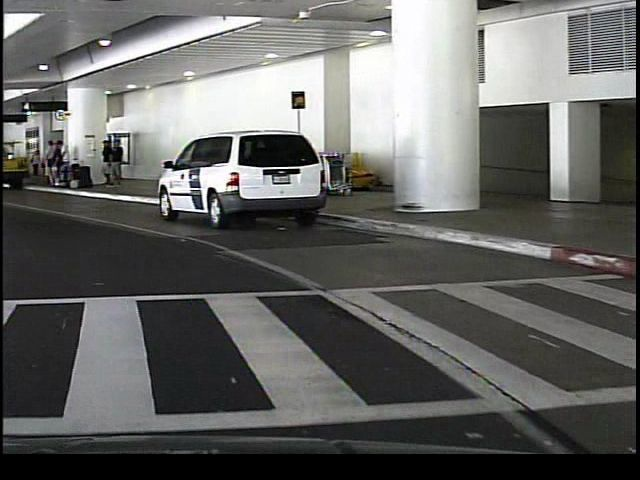person: (38, 137, 53, 189), (109, 138, 124, 187)
